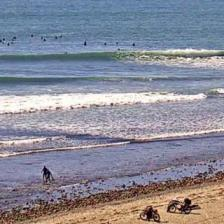surfer: (117, 48, 124, 51), (57, 35, 63, 38), (84, 41, 87, 46), (41, 36, 44, 40), (132, 43, 136, 46), (13, 36, 16, 39), (0, 39, 2, 43), (31, 34, 33, 38), (55, 36, 57, 40), (10, 42, 13, 44), (11, 40, 14, 42), (104, 42, 106, 45), (116, 42, 118, 45), (3, 38, 5, 40), (8, 42, 9, 46), (44, 39, 46, 41), (66, 52, 67, 54)
